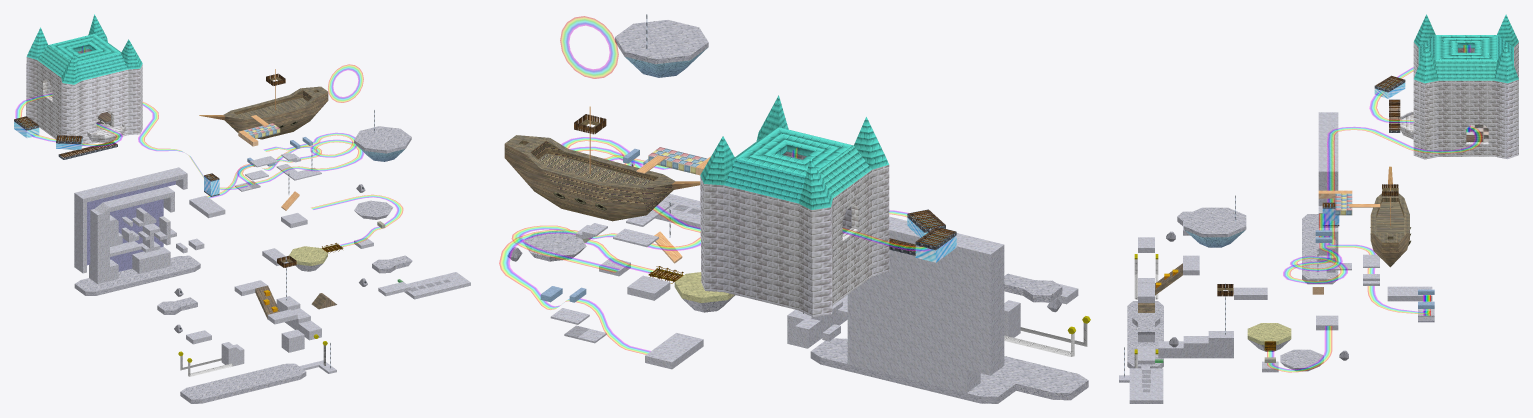
The model's file is rainbow_cruise_all.glb.
3 renders of one model, left to right at view 1: azimuth 30°, elevation 25°; view 2: azimuth 150°, elevation 25°; view 3: azimuth 270°, elevation 25°, orthographic. The views are drawn at different scales.
Visible parts, largest first — view 1: rainbow_cruise_all; view 2: rainbow_cruise_all; view 3: rainbow_cruise_all.
Boxes of the visible parts, x1,y1,x2,y2 form: rainbow_cruise_all: [14, 14, 470, 403]; rainbow_cruise_all: [499, 14, 1090, 403]; rainbow_cruise_all: [1119, 14, 1518, 403].
Bounding box in the file's own units: 15.38 × 11.73 × 14.27.
Materials: 16 (15 with a texture image).
